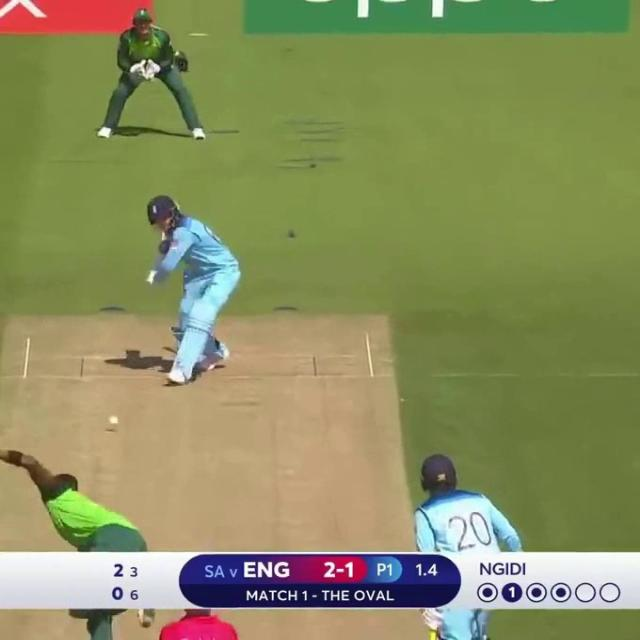bat: (146, 232, 166, 284), (174, 200, 187, 208)
